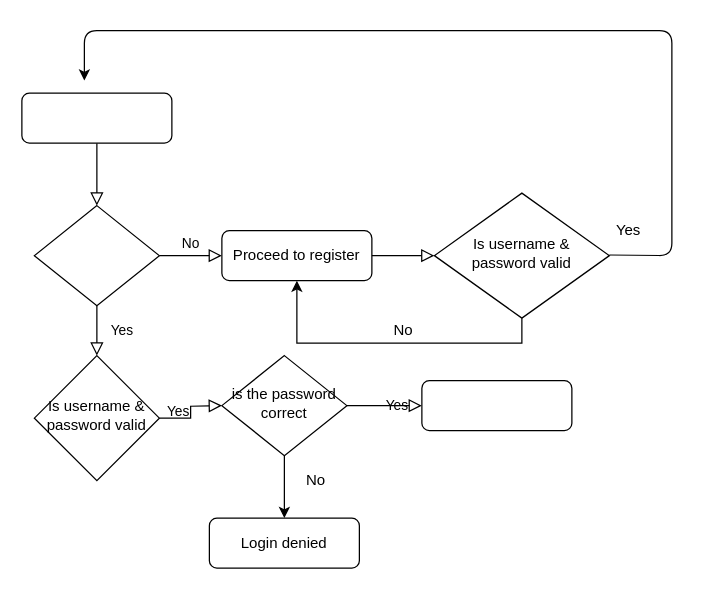
Some shapes in this 704 by 590 pixel diagram are drawn without their labels. Here are the shapes that lost their labels. From the top down, the centre of each, then its label:
At [96,117]: "input username and passord".
At [96,255]: "Is user registered".
At [496,405]: "Login success".
